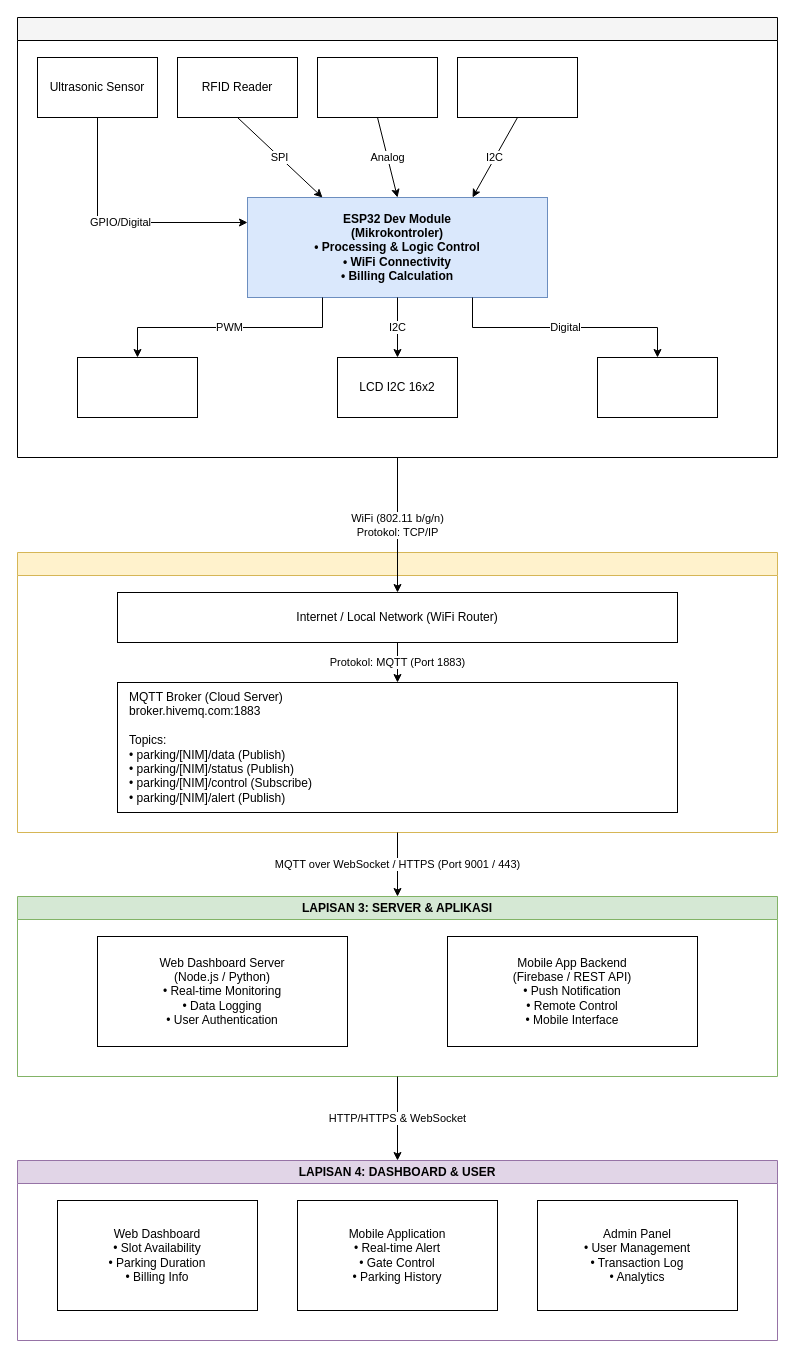
Some shapes in this 795 by 1358 pixel diagram are drawn without their labels. The shapes that lost their labels are listed below. From the top down, each one's box as (x1, y1, x2, y2) in pixels, then its label:
(316, 56, 438, 118): MQ-2 Sensor
(456, 56, 578, 118): DS3231 (RTC)
(16, 16, 778, 458): LAPISAN 1: PERANGKAT IoT (EDGE)
(76, 356, 198, 418): Servo Motor (Portal)
(596, 356, 718, 418): Buzzer (Alarm)
(16, 552, 778, 832): LAPISAN 2: JARINGAN & KOMUNIKASI
